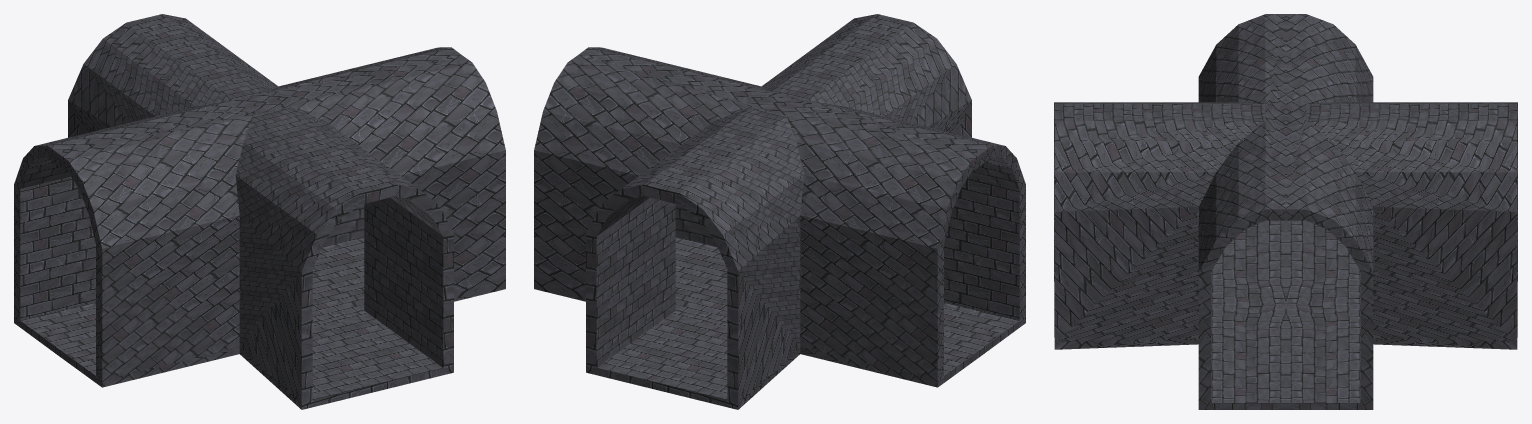
Rendered from dungeonsX.fbx.
The picture shows the model from 3 angles, left to right: view 1: azimuth 30°, elevation 25°; view 2: azimuth 150°, elevation 25°; view 3: azimuth 270°, elevation 25°; orthographic projection.
Parts seen in each view (by area): view 1: DungedonsMiddle; view 2: DungedonsMiddle; view 3: DungedonsMiddle.
Part boxes in pixels (<box>): DungedonsMiddle: <box>14,14,505,409</box>; DungedonsMiddle: <box>534,14,1025,409</box>; DungedonsMiddle: <box>1054,14,1517,409</box>.
Bounding box in the file's own units: 12.2 × 5.83 × 12.22.
